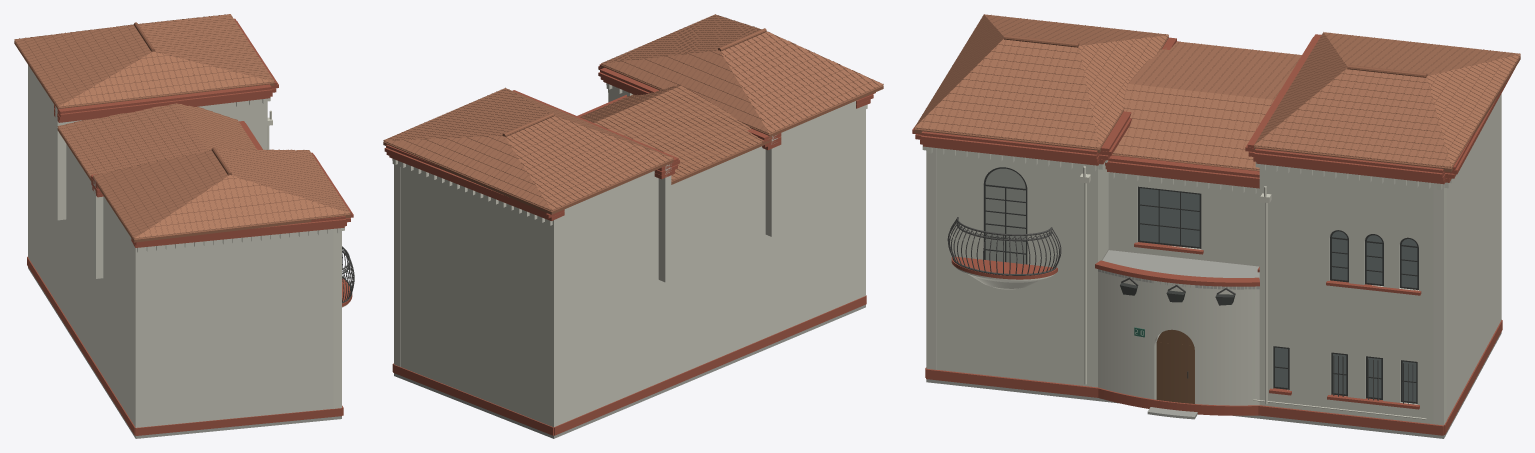
File: web.glb
The picture shows the model from 3 angles, left to right: view 1: azimuth 30°, elevation 25°; view 2: azimuth 150°, elevation 25°; view 3: azimuth 270°, elevation 25°; orthographic projection. The views are drawn at different scales.
Size of the model in its own units: 10.94 by 9.01 by 16.21.
